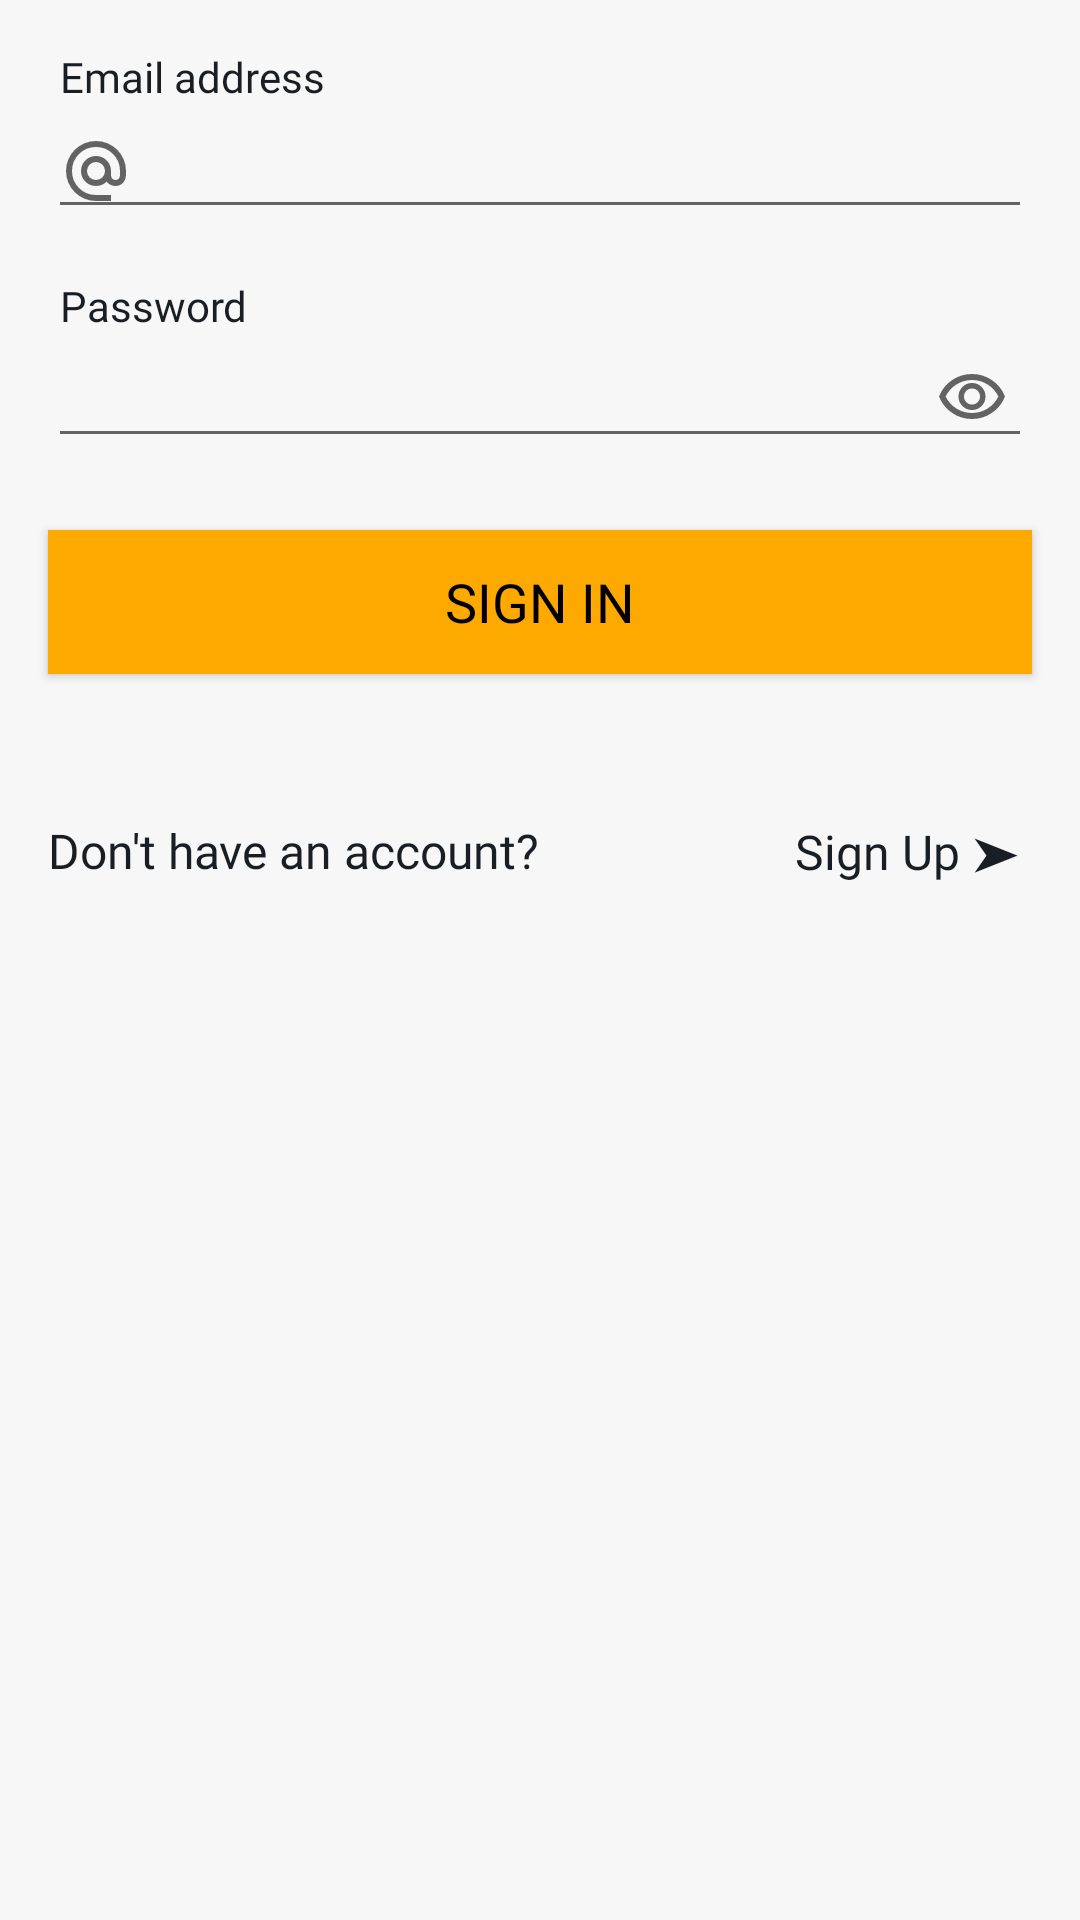

Where icons sit on this 1080px x 1920px app screen, as BBox(x1, y1, x2, y2):
eye: BBox(939, 374, 1005, 419)
